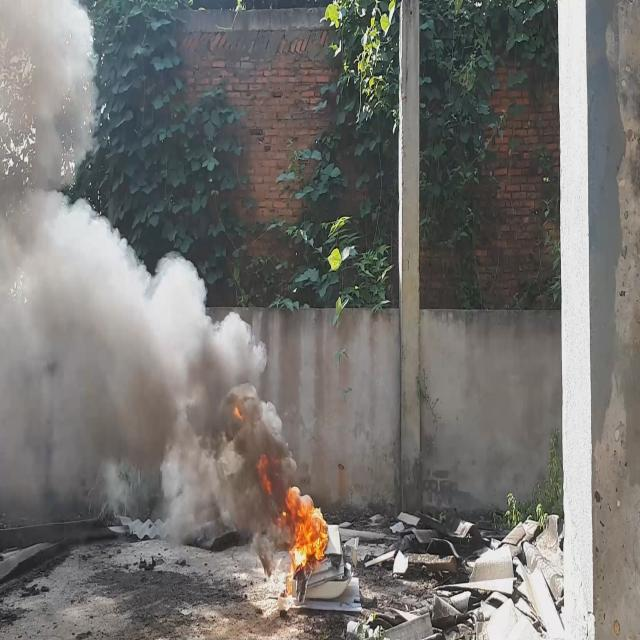Fire: (272, 476, 330, 574)
Smoke: (0, 0, 300, 547)
